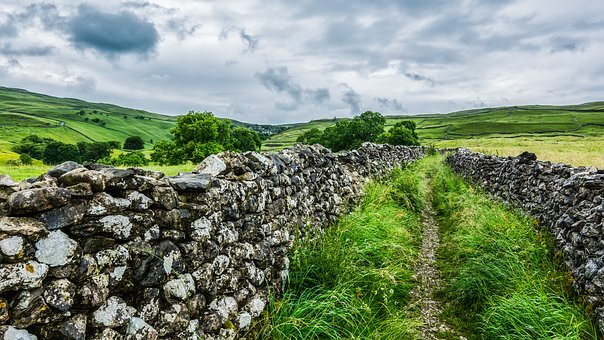field: (13, 100, 604, 333)
sky: (4, 2, 604, 117)
